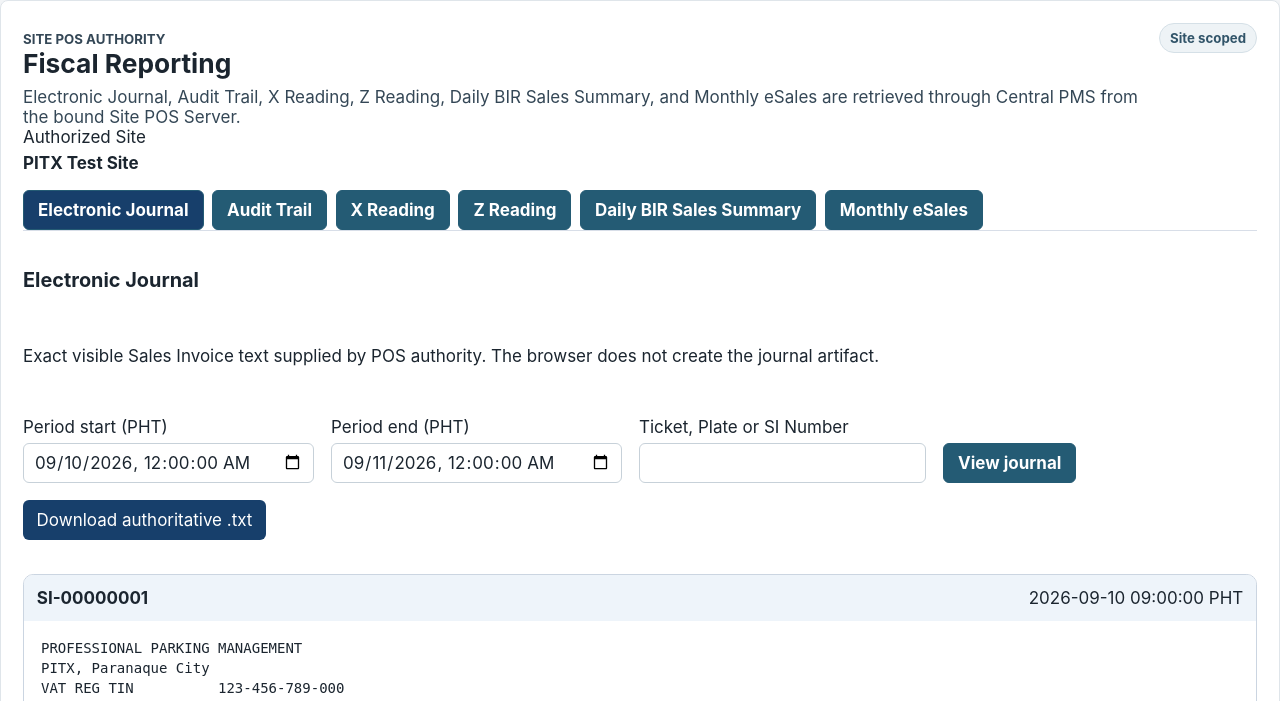
Test: Operator Console fiscal reporting › keeps the current Annex E-1 available and permits governed successor generation
Click the tab "Daily BIR Sales Summary": (698, 210) top-left (580, 190), bottom-right (816, 230)
(page scrolled)
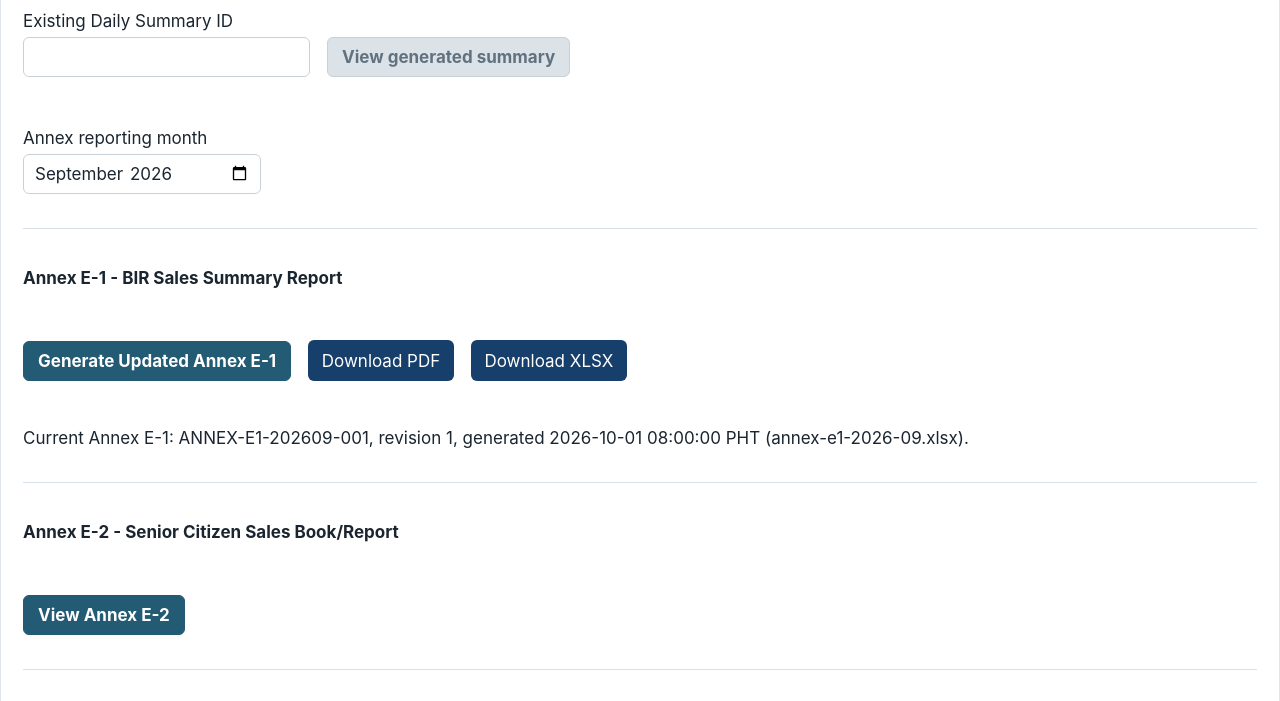
Result: the text "Current Annex E-1:" shows "revision 1" at top-left (23, 428), bottom-right (969, 448)
Click the button "Generate Updated Annex E-1": (157, 361) top-left (23, 341), bottom-right (291, 381)
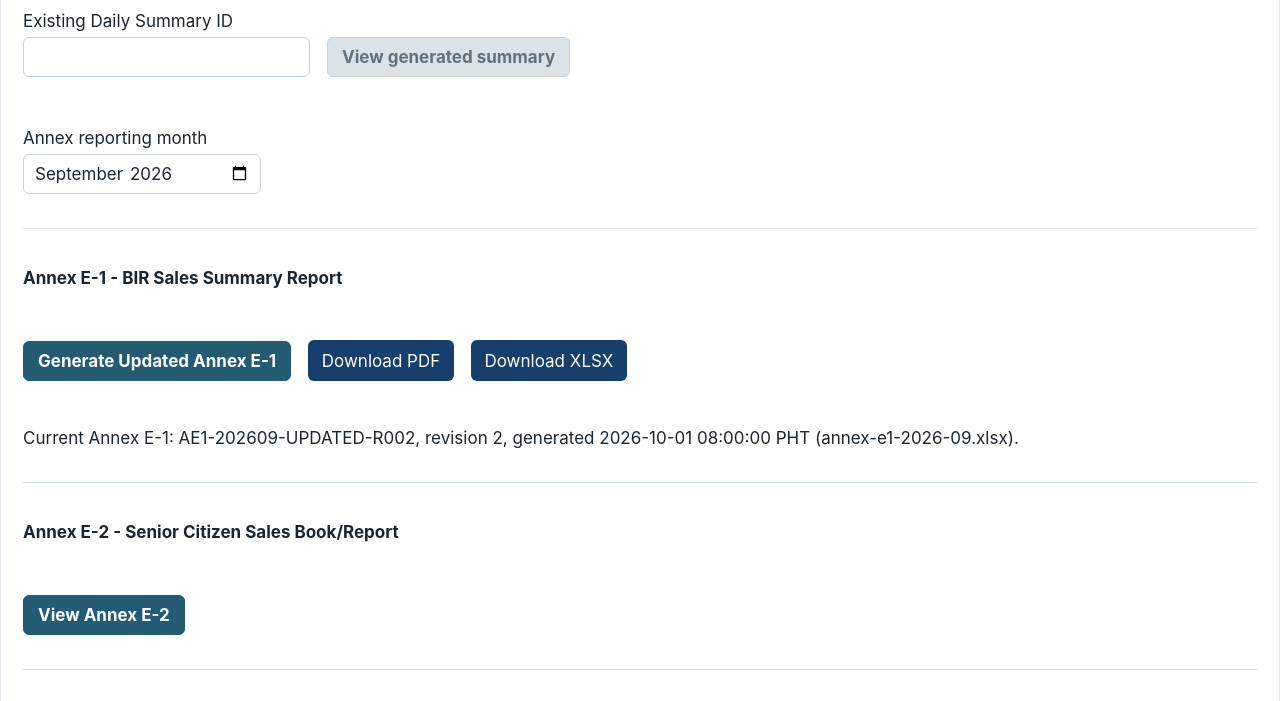
Result: the text "Current Annex E-1:" shows "revision 2" at top-left (23, 428), bottom-right (1019, 448)
